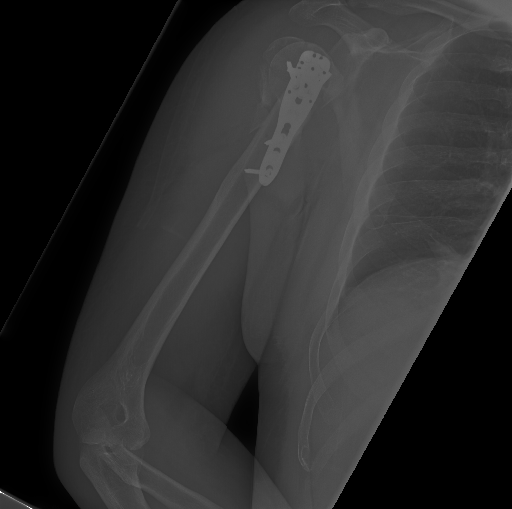implant: (260, 47, 337, 179)
